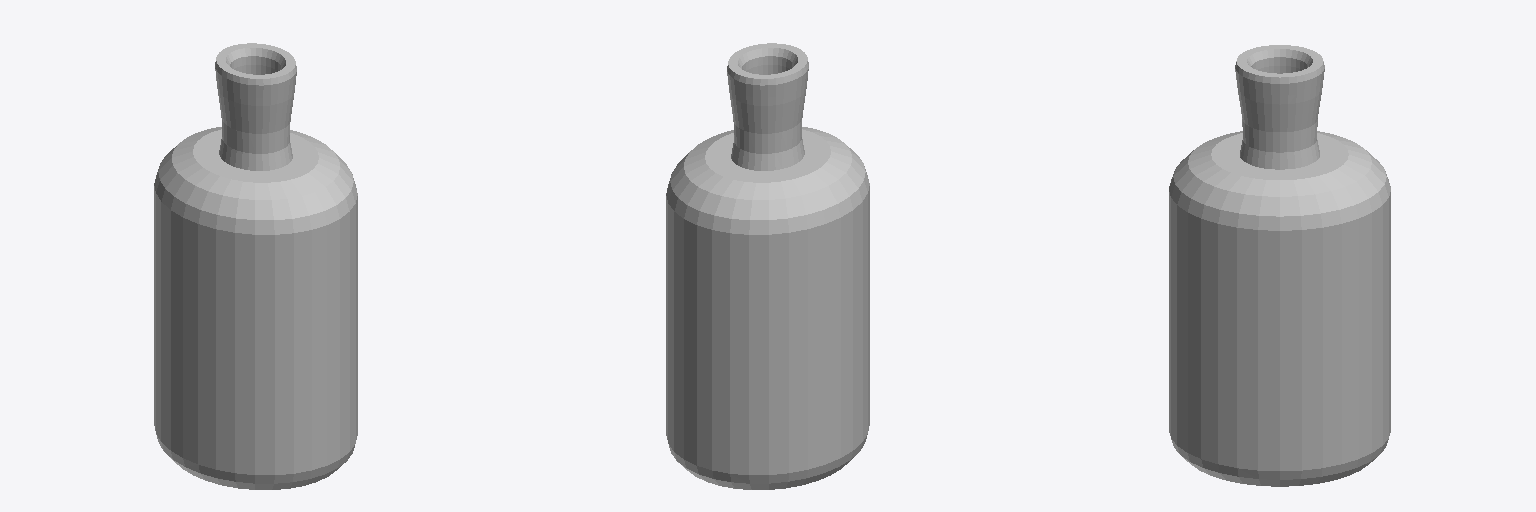
File: bottleLarge.obj
3 views of the same model, side by side, from view 1: azimuth 30°, elevation 25°; view 2: azimuth 150°, elevation 25°; view 3: azimuth 270°, elevation 25° (orthographic).
Parts seen in each view (by area): view 1: Cylinder_018; view 2: Cylinder_018; view 3: Cylinder_018.
Boxes of the visible parts, box(x1,y1,x2,y2) form: Cylinder_018: box(154, 43, 357, 489); Cylinder_018: box(666, 43, 869, 489); Cylinder_018: box(1169, 45, 1390, 486).
Size of the model in its own units: 2.05 by 4.46 by 2.31.